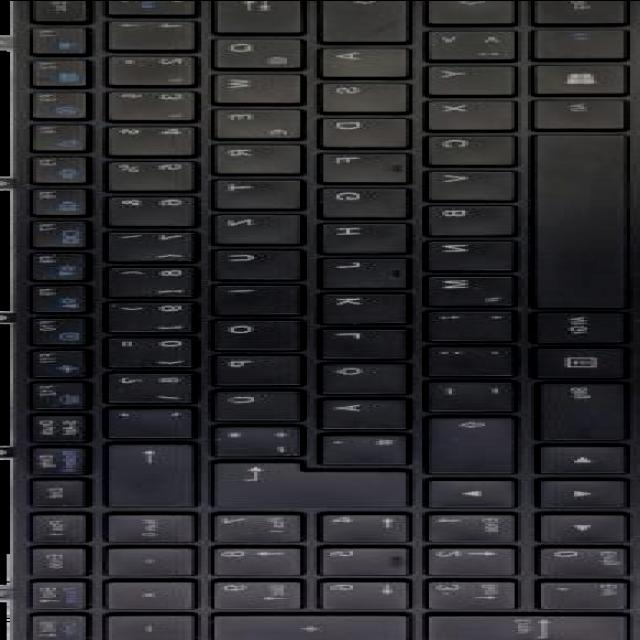0: (92, 332, 188, 365)
1: (92, 16, 188, 48)
2: (92, 51, 188, 82)
3: (96, 85, 188, 117)
4: (92, 122, 188, 153)
5: (92, 156, 188, 187)
6: (92, 191, 188, 223)
7: (92, 226, 188, 258)
8: (93, 262, 192, 294)
9: (89, 297, 188, 329)
a: (304, 42, 403, 74)
accent: (89, 403, 185, 434)
ae: (304, 393, 403, 425)
alt-left: (518, 94, 620, 126)
altgr-right: (518, 308, 620, 340)
b: (409, 199, 508, 232)
c: (409, 130, 508, 161)
caret: (92, 0, 188, 11)
comma: (409, 306, 508, 337)
d: (304, 113, 403, 144)
del: (89, 439, 188, 503)
e: (198, 104, 297, 135)
enter: (198, 457, 399, 503)
f: (304, 147, 400, 179)
g: (304, 182, 403, 213)
h: (304, 218, 403, 250)
hash: (304, 429, 400, 460)
i: (198, 279, 294, 311)
j: (304, 253, 403, 284)
k: (304, 288, 403, 319)
keyboard: (1, 0, 637, 640)
l: (304, 324, 403, 355)
less: (409, 25, 508, 57)
m: (409, 269, 508, 301)
minus: (409, 375, 508, 407)
n: (409, 234, 508, 266)
o: (195, 315, 294, 346)
oe: (304, 358, 403, 390)
p: (195, 350, 294, 381)
plus: (195, 421, 294, 453)
point: (409, 340, 508, 373)
q: (198, 32, 297, 65)
r: (198, 138, 297, 170)
s: (304, 77, 403, 108)
shift-left: (412, 0, 508, 20)
shift-lock: (304, 1, 403, 39)
shift-right: (409, 412, 508, 470)
space: (515, 131, 624, 305)
ss: (92, 368, 188, 400)
strg-left: (518, 0, 620, 21)
strg-right: (521, 377, 620, 437)
t: (198, 173, 294, 204)
tab: (198, 1, 297, 29)
u: (198, 244, 297, 276)
ue: (195, 385, 294, 416)
v: (409, 165, 508, 197)
w: (195, 69, 294, 100)
x: (409, 95, 508, 126)
y: (412, 61, 508, 92)
z: (198, 209, 297, 241)
